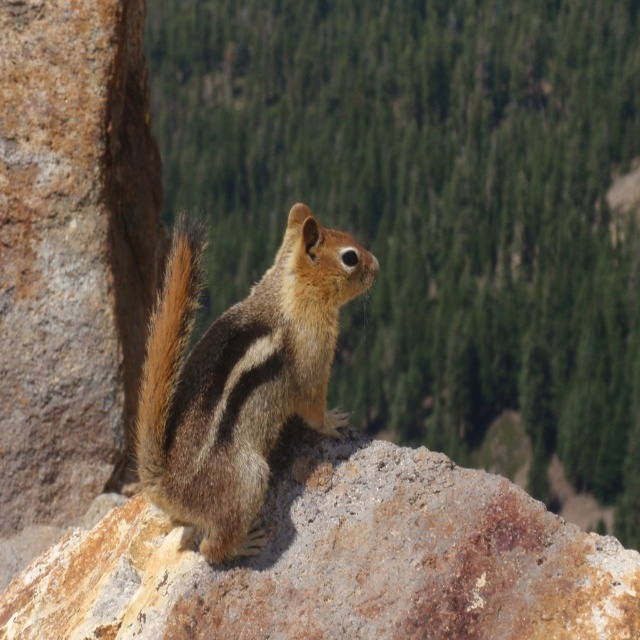Squirrel: (127, 202, 380, 564)
